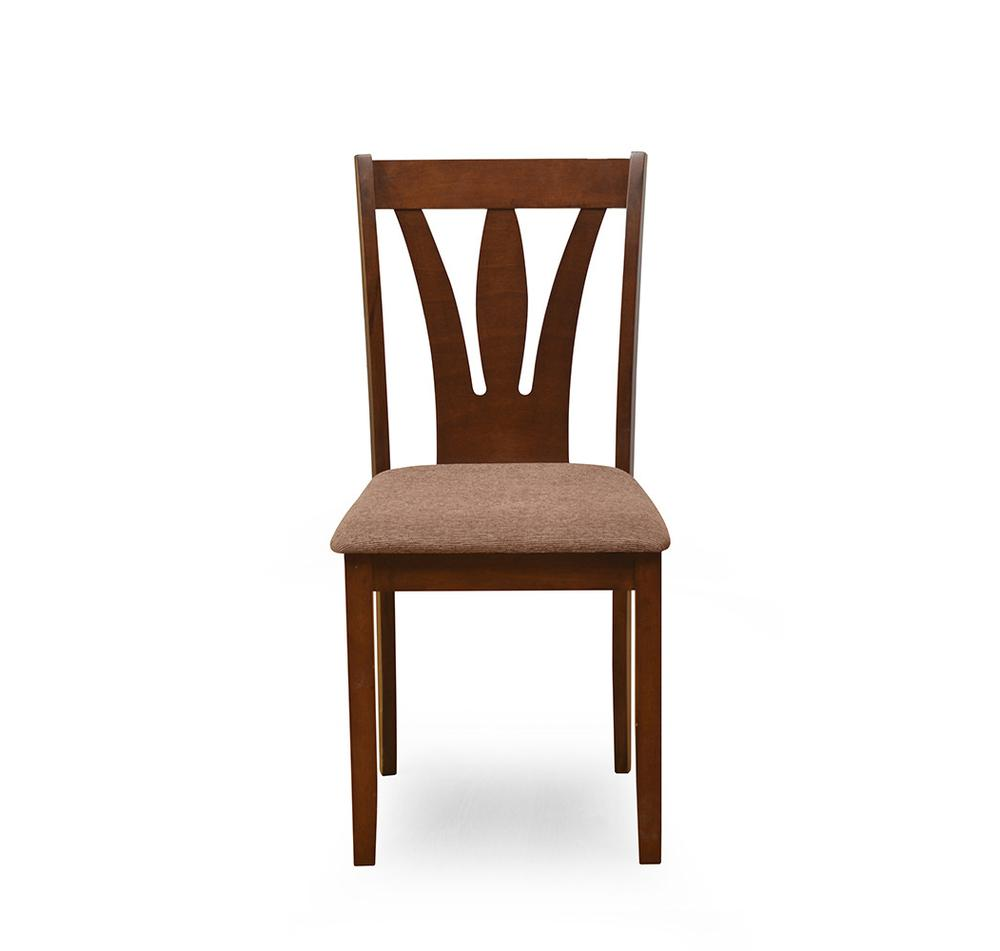chair: (270, 123, 801, 920)
